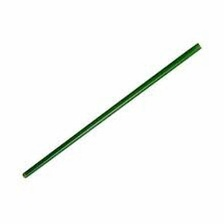drinking_straw: (17, 38, 207, 185)
